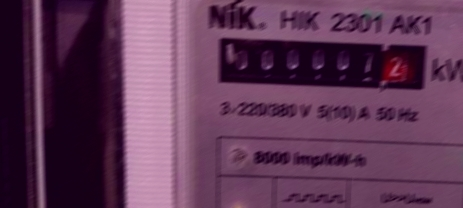0: (233, 46, 248, 71), (310, 47, 325, 71), (285, 47, 299, 71), (335, 48, 349, 71), (259, 48, 273, 70)
2: (388, 55, 402, 78)
7: (361, 49, 374, 74)
screen: (206, 24, 436, 102)
